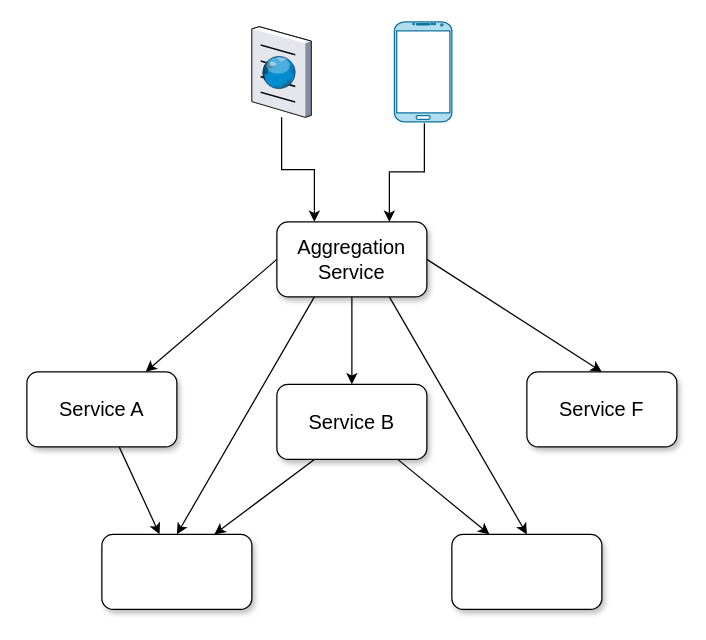
Image size: 706x640. Some labels were removed from this diagram. The shapes that lost their labels are listed below. From the top down, each one's centre as x and y in pixels, then its label:
At (x=177, y=573): "Service C".
At (x=527, y=573): "Service D".
